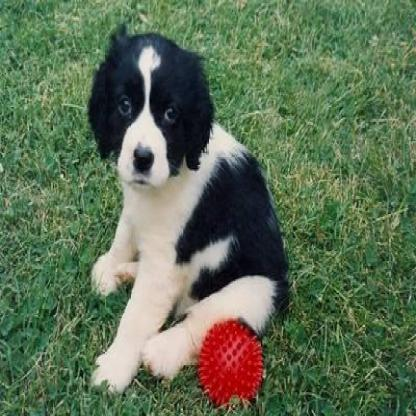English_springer: (83, 30, 287, 389)
